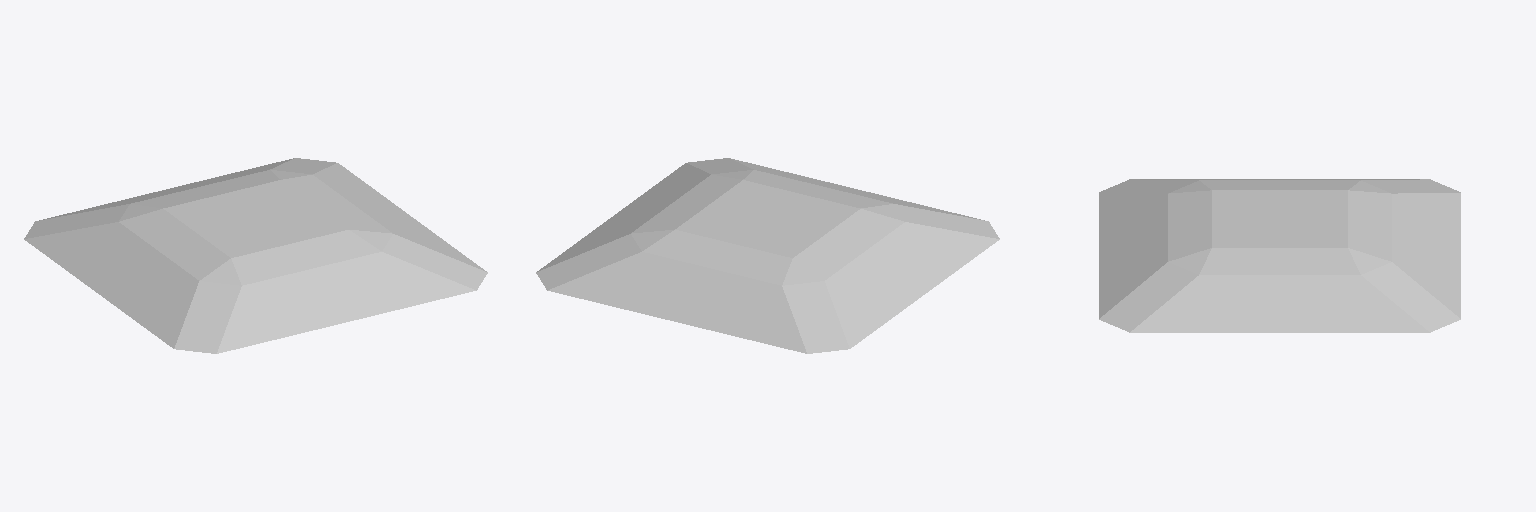
The model's file is gem-4-flat.obj.
3 views of the same model, side by side, from view 1: azimuth 30°, elevation 25°; view 2: azimuth 150°, elevation 25°; view 3: azimuth 270°, elevation 25° (orthographic).
Parts seen in each view (by area): view 1: gem_Cube; view 2: gem_Cube; view 3: gem_Cube.
Part boxes in pixels (bbox=[...]): gem_Cube: bbox=[24, 158, 487, 353]; gem_Cube: bbox=[536, 158, 999, 353]; gem_Cube: bbox=[1099, 179, 1460, 332].
Bounding box in the file's own units: 15.95 × 3.58 × 15.95.